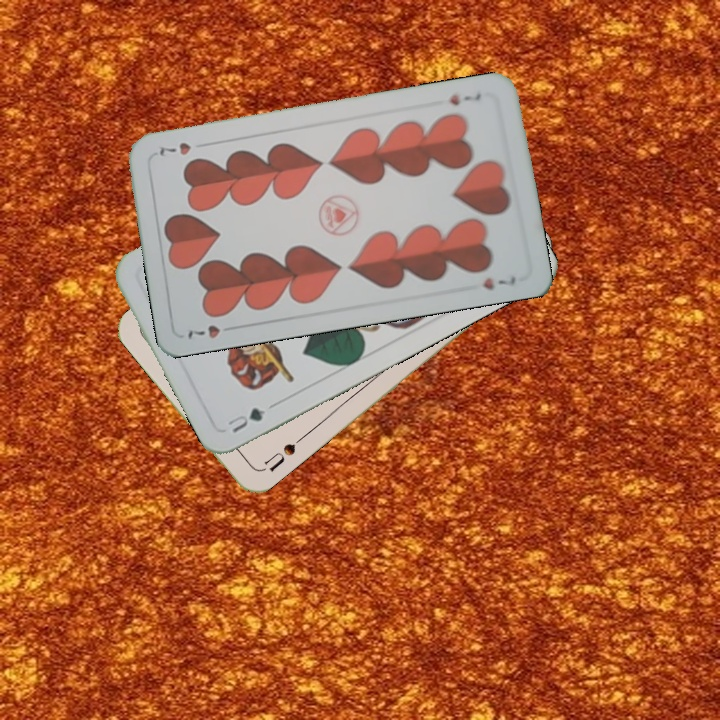GU: (223, 403, 268, 436)
H7: (184, 321, 240, 342), (446, 89, 484, 108)
SU: (256, 432, 306, 475)
